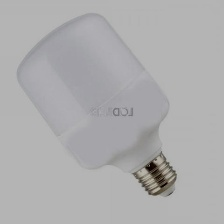light_bulb: (14, 7, 179, 201)
